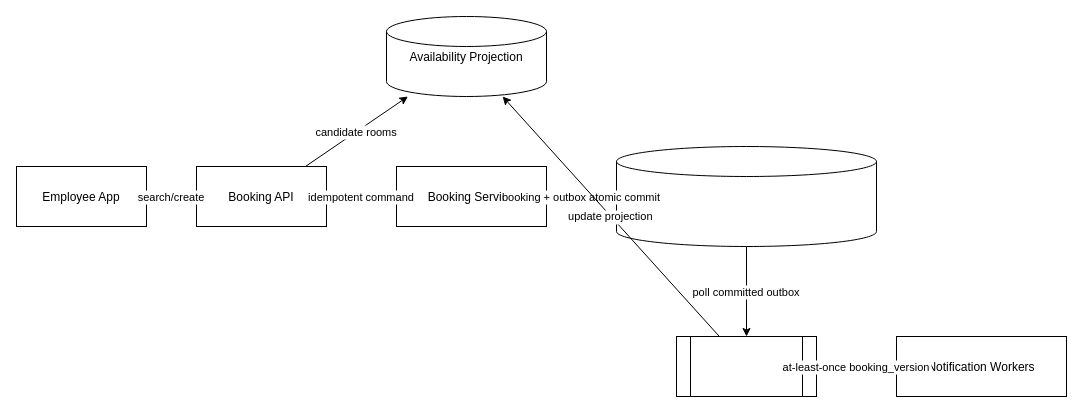
This 1083x413 diagram has some shape labels left out. The centre of each missing label's shape, as x and y in pixels:
"Outbox Relay" belongs at point 746,366.
"Postgres: Active-Only Range Constraint + Outbox (One TX)" belongs at point 746,196.
